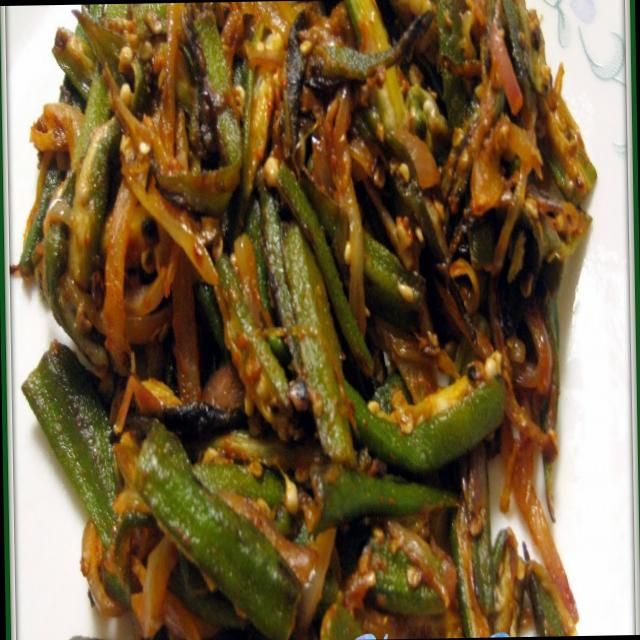BhindiMasala: (13, 0, 605, 640)
